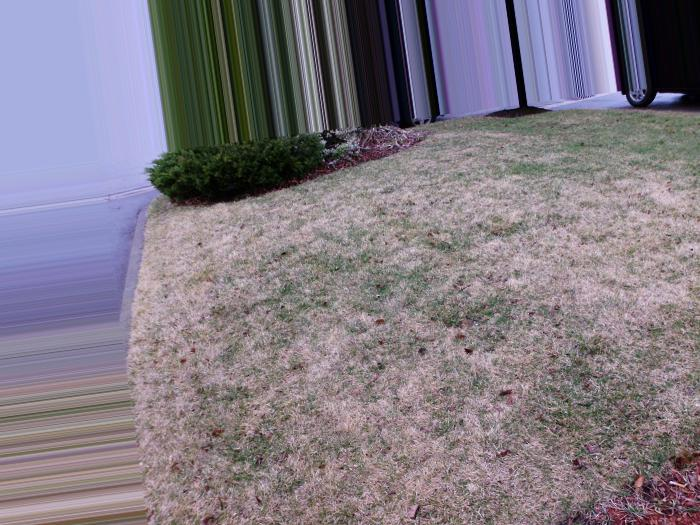patch: (184, 224, 403, 485), (499, 230, 648, 324), (443, 384, 545, 516), (581, 356, 669, 413), (437, 150, 523, 204), (415, 320, 483, 372), (579, 180, 663, 220), (300, 186, 384, 222)
